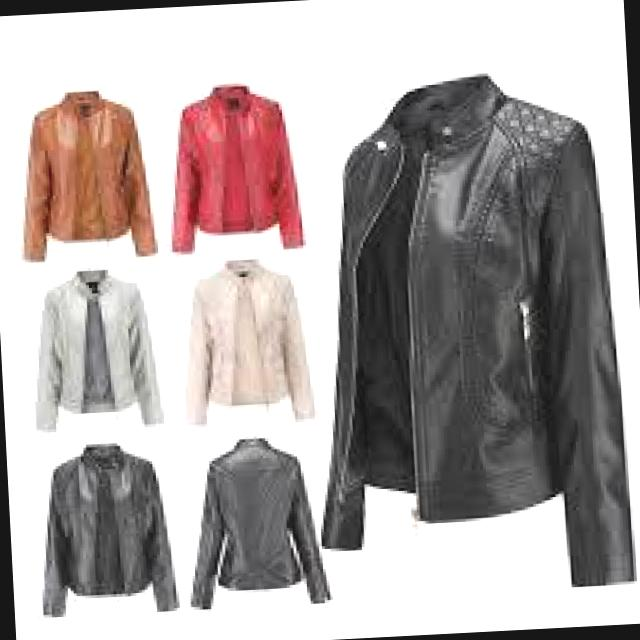jacket: (306, 64, 640, 606), (0, 72, 164, 273), (154, 64, 312, 266), (178, 432, 329, 610), (172, 260, 320, 434), (18, 268, 174, 432), (36, 439, 178, 619)
